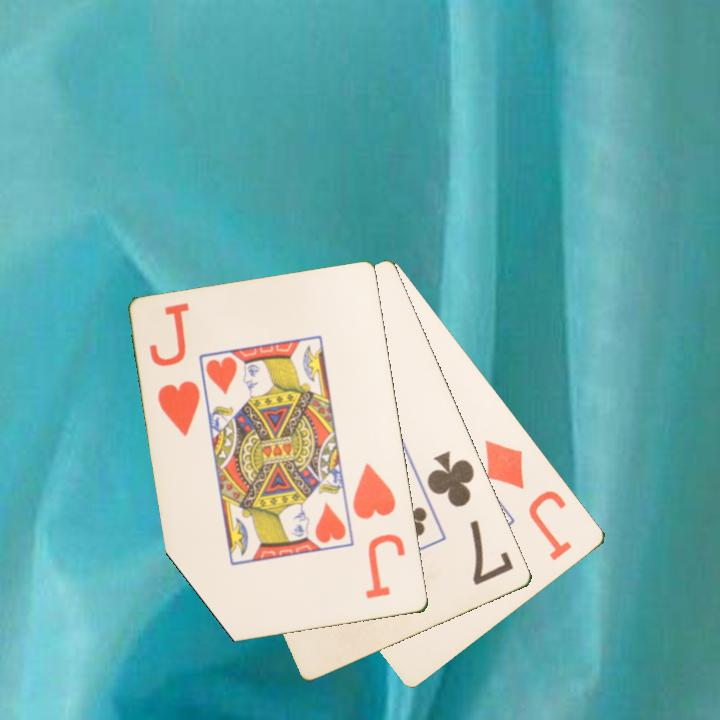7c: (423, 447, 517, 588)
Jd: (481, 436, 576, 564)
Jh: (349, 459, 409, 602), (154, 377, 204, 440)
